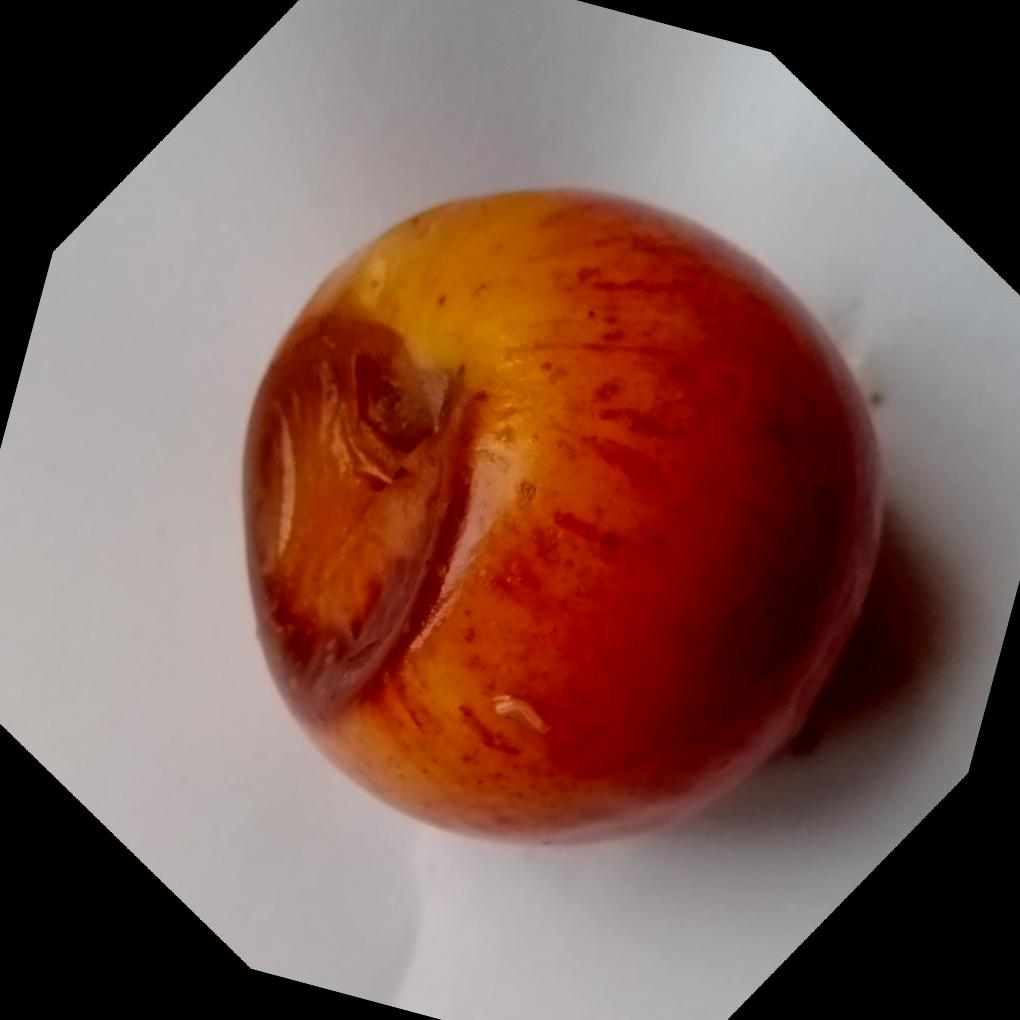FreshOrange: (236, 184, 884, 845)
